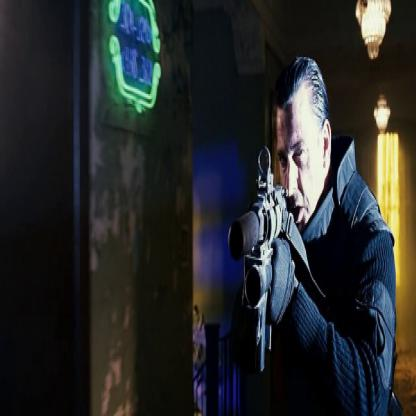Gun: (225, 141, 293, 381)
